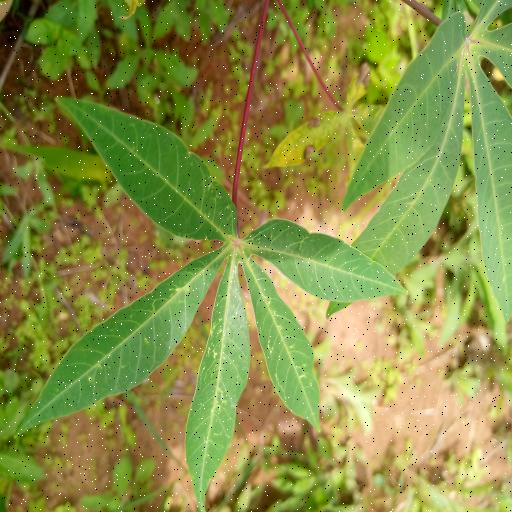Cassava_Healthy: (12, 89, 412, 512), (310, 0, 512, 327)
